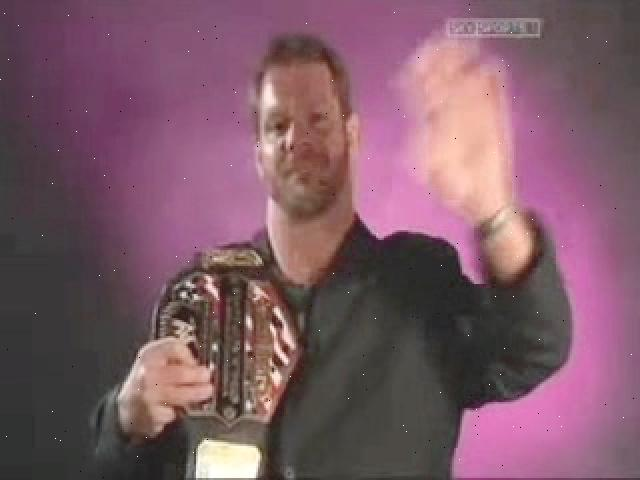L: (90, 33, 571, 479)
